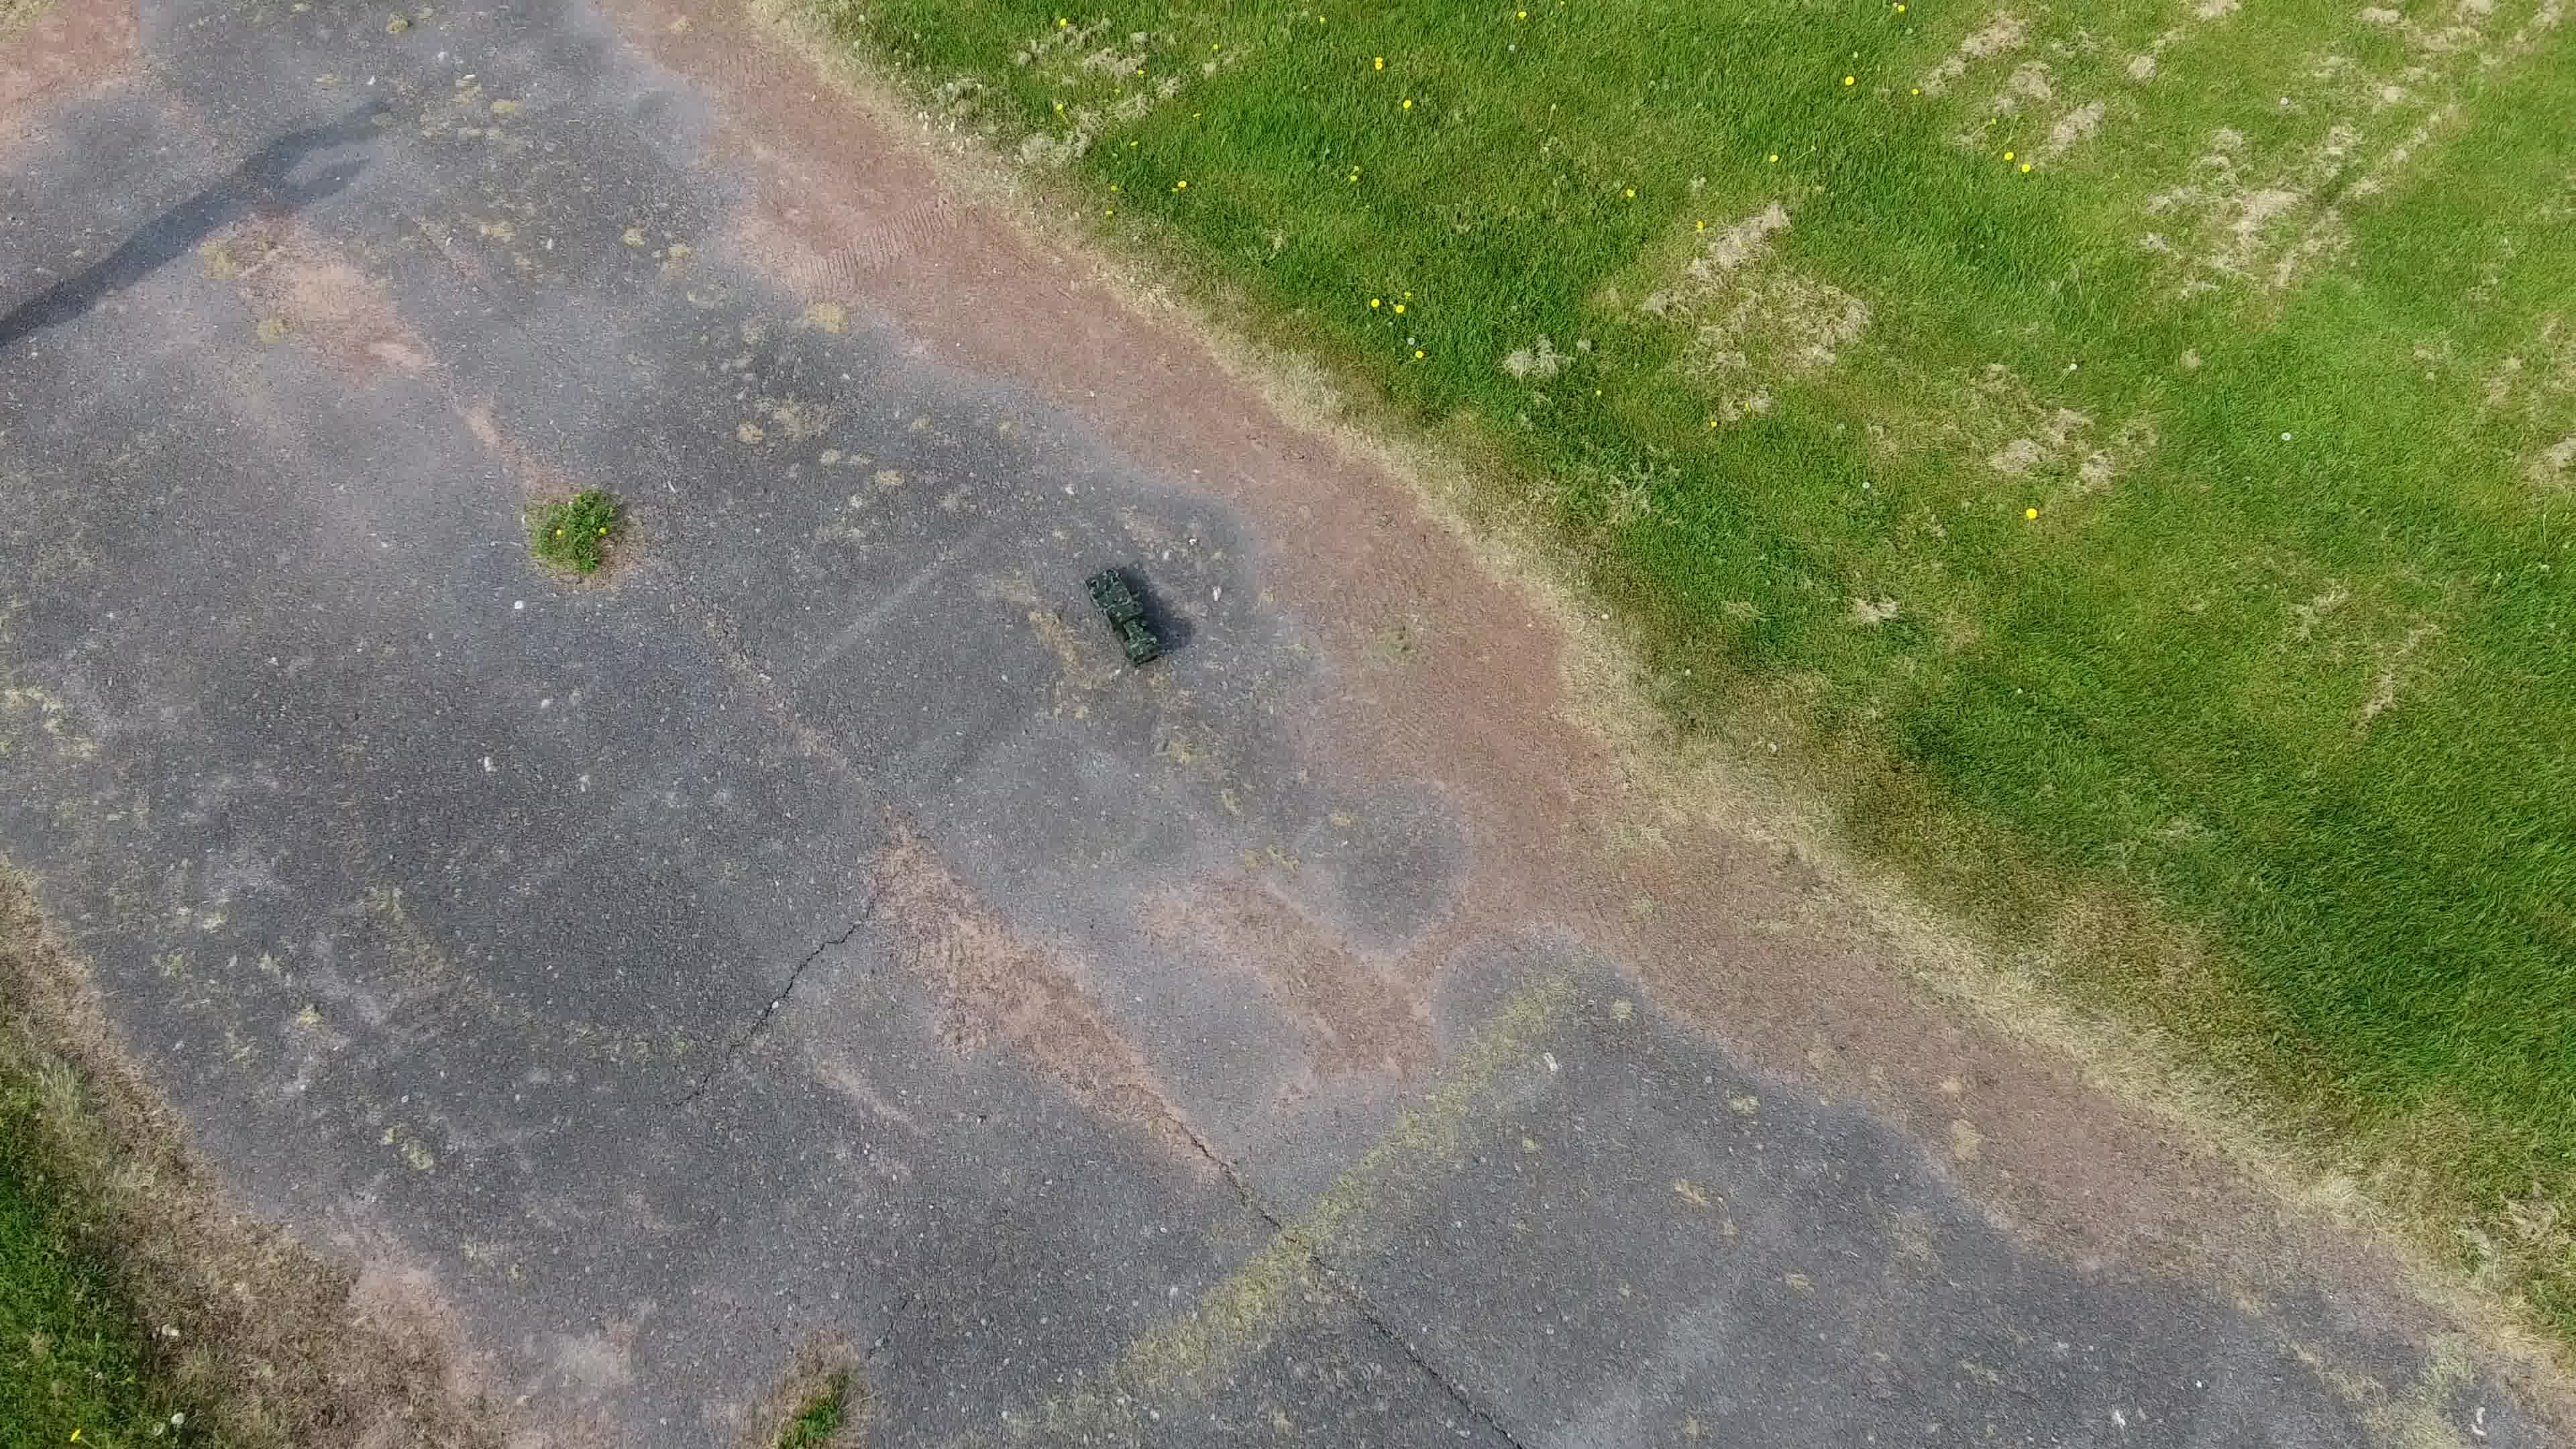transporter9_camo: (1079, 563, 1166, 669)
